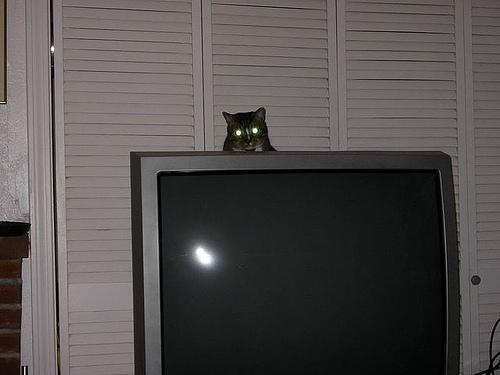tv: (125, 147, 468, 374)
